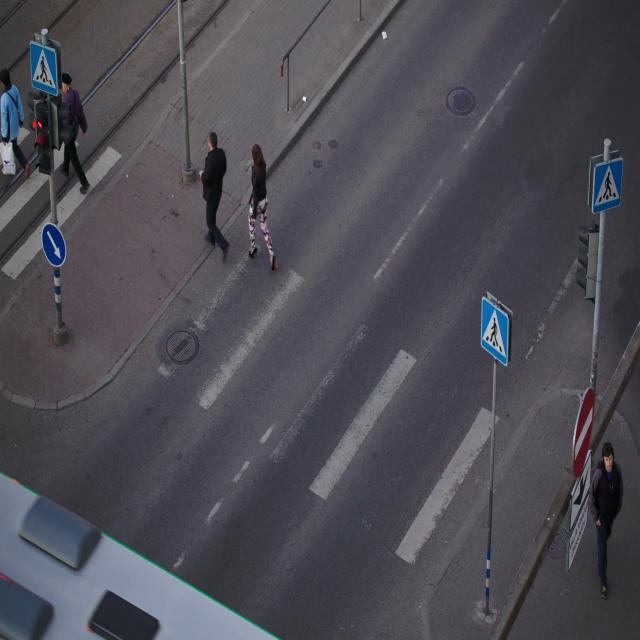pedestrian: (199, 132, 228, 261), (249, 145, 276, 270)
